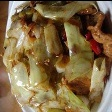juanxincairoupian: (2, 0, 112, 112)
